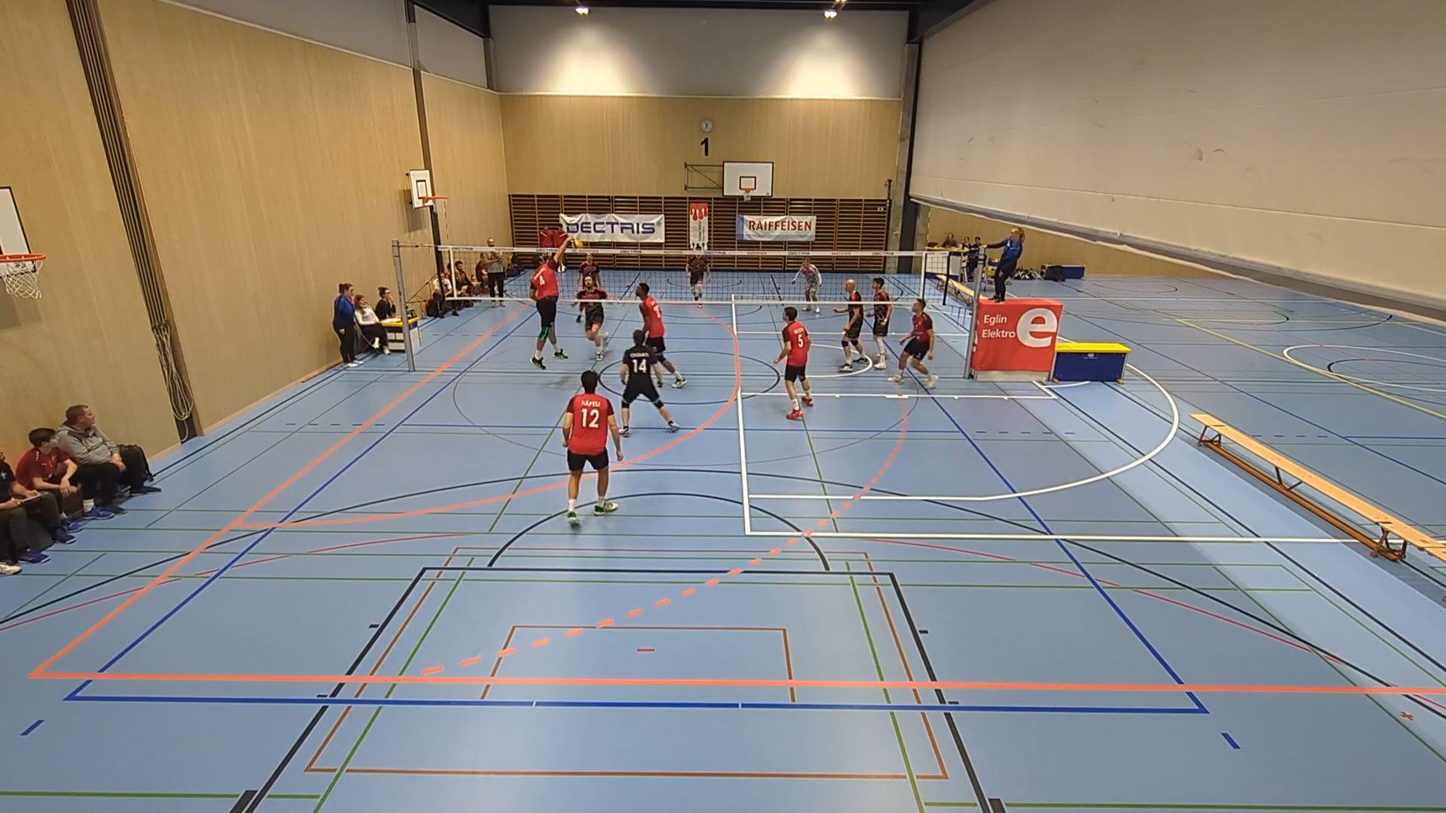Player: (563, 370, 623, 524), (620, 329, 678, 436), (636, 283, 686, 388), (888, 300, 937, 388), (775, 307, 813, 419), (834, 279, 867, 371), (577, 276, 608, 360), (872, 278, 892, 369), (790, 259, 821, 312), (687, 254, 710, 306), (578, 253, 600, 289)
Set: (528, 238, 579, 373)
ball: (573, 236, 584, 246)
